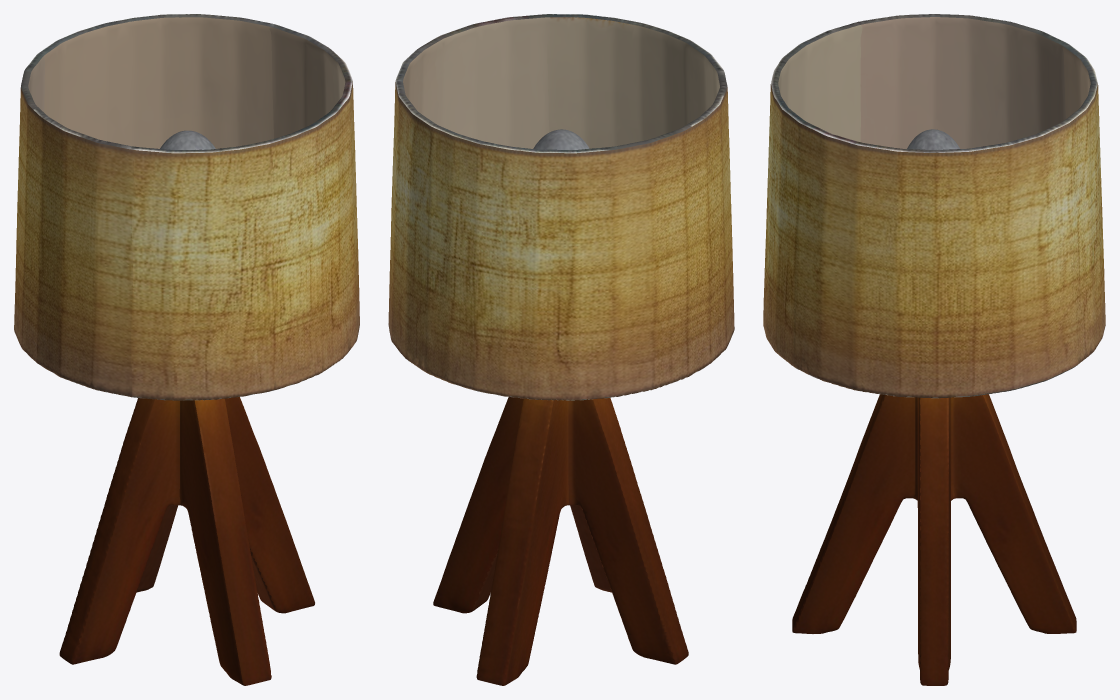
The model's file is lamp__lamp#2.glb.
3 views of the same model, side by side, from view 1: azimuth 30°, elevation 25°; view 2: azimuth 150°, elevation 25°; view 3: azimuth 270°, elevation 25° (orthographic).
Parts seen in each view (by area): view 1: tmp_m9i8bme.ply; view 2: tmp_m9i8bme.ply; view 3: tmp_m9i8bme.ply.
Part boxes in pixels (x1=…): tmp_m9i8bme.ply: x1=14, y1=14, x2=359, y2=685; tmp_m9i8bme.ply: x1=388, y1=14, x2=734, y2=685; tmp_m9i8bme.ply: x1=763, y1=14, x2=1105, y2=685.
Size of the model in its own units: 1.13 by 1.99 by 1.13.
1 material, 1 textured.
